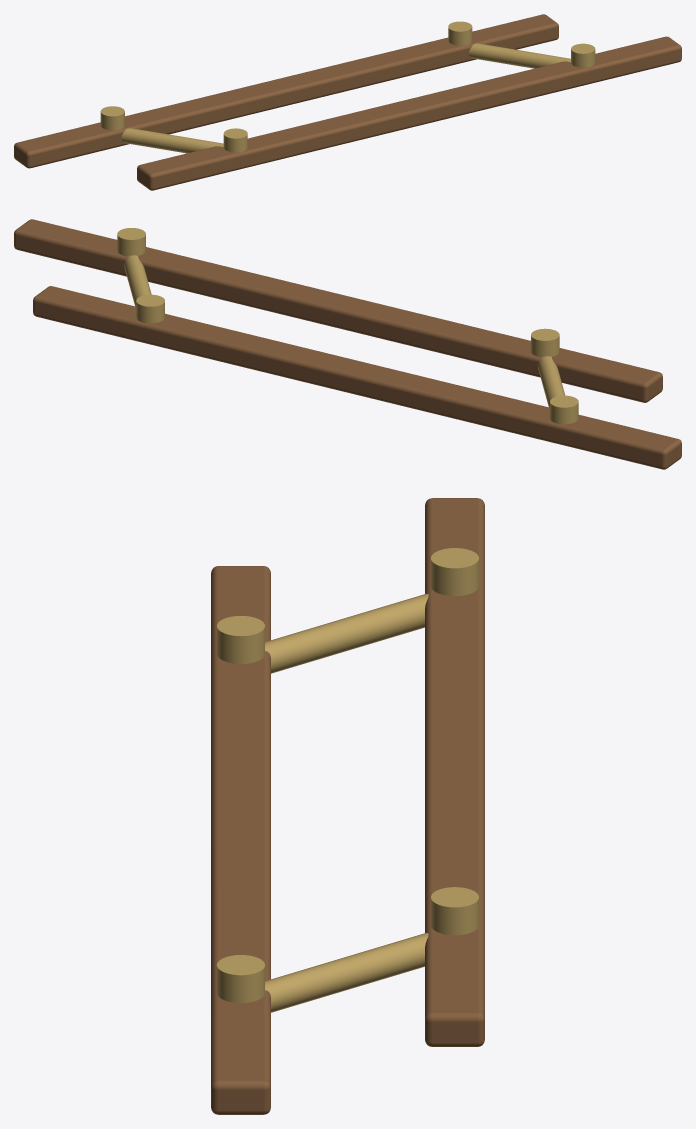
Rendered from fantasy-cartographers-map-printing-guild-parallel-draw-c5da5ff6__32230.glb.
The picture shows the model from 3 angles, top to bottom: view 1: azimuth 30°, elevation 25°; view 2: azimuth 150°, elevation 25°; view 3: azimuth 270°, elevation 25°; orthographic projection. The views are drawn at different scales.
Visible parts, largest first — view 1: parallel-drawing-rule; view 2: parallel-drawing-rule; view 3: parallel-drawing-rule.
Boxes of the visible parts, bbox=[...] form: parallel-drawing-rule: bbox=[14, 14, 681, 190]; parallel-drawing-rule: bbox=[14, 219, 681, 469]; parallel-drawing-rule: bbox=[211, 498, 484, 1114].
Size of the model in its own units: 1.04 by 0.051 by 0.205.
